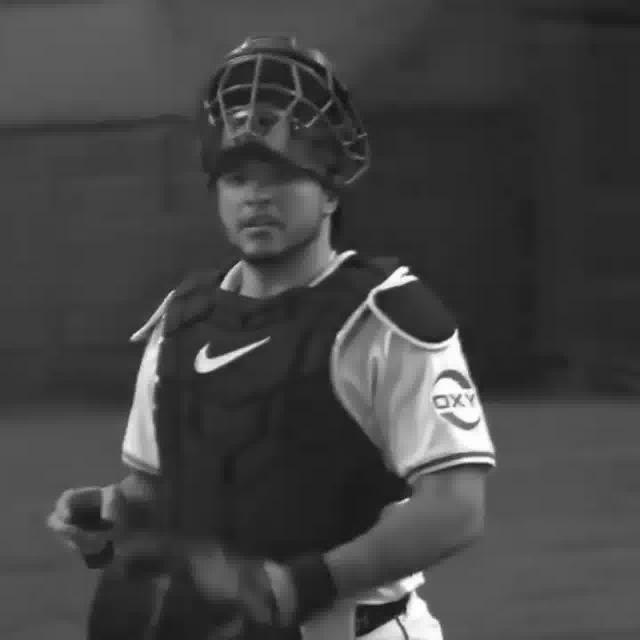baseball_glove: (94, 545, 276, 634)
